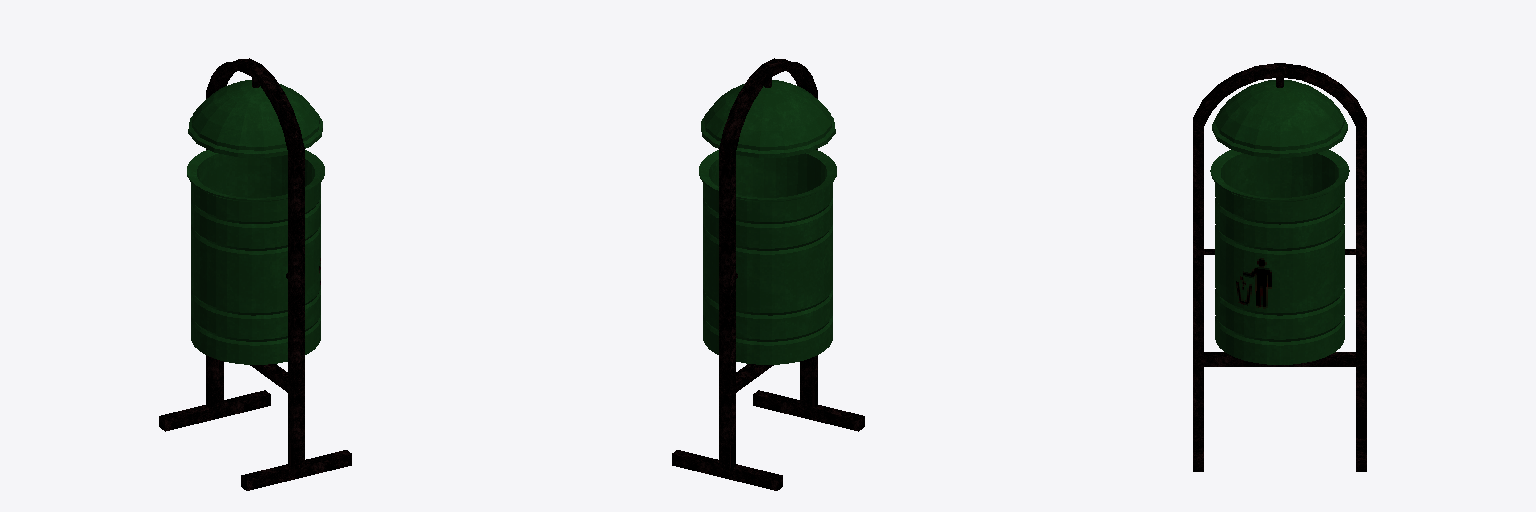
The picture shows the model from 3 angles: view 1: azimuth 30°, elevation 25°; view 2: azimuth 150°, elevation 25°; view 3: azimuth 270°, elevation 25°; orthographic projection.
Visible parts, largest first — view 1: Circle.004; view 2: Circle.004; view 3: Circle.004.
Boxes of the visible parts, x1,y1,x2,y2 form: Circle.004: [159, 58, 351, 490]; Circle.004: [672, 58, 864, 490]; Circle.004: [1193, 63, 1366, 471].
Bounding box in the file's own units: 1.28 × 3.87 × 1.61.
Materials: 1 (1 with a texture image).